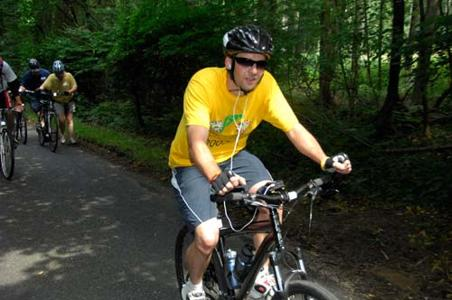person: (167, 26, 355, 300)
